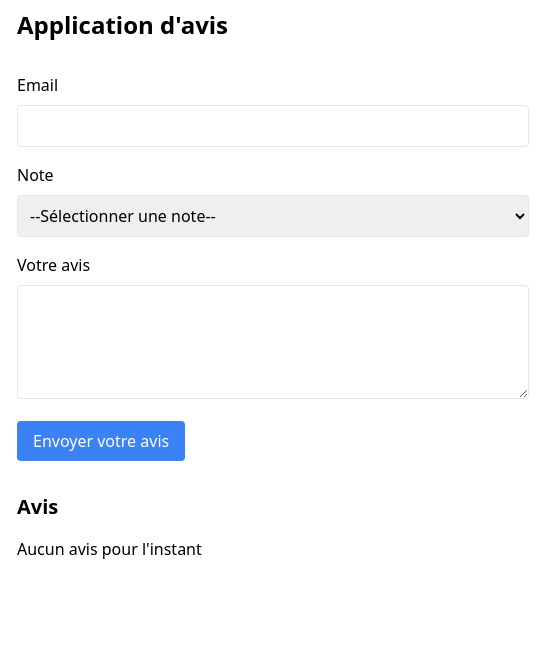
Test: Reviews App › should add a new review when form is submitted
This screenshot has width=546, height=668.
Type "test@example.com" into the field labelled "Email" at (273, 126), box top-left (17, 105), bottom-right (529, 147)
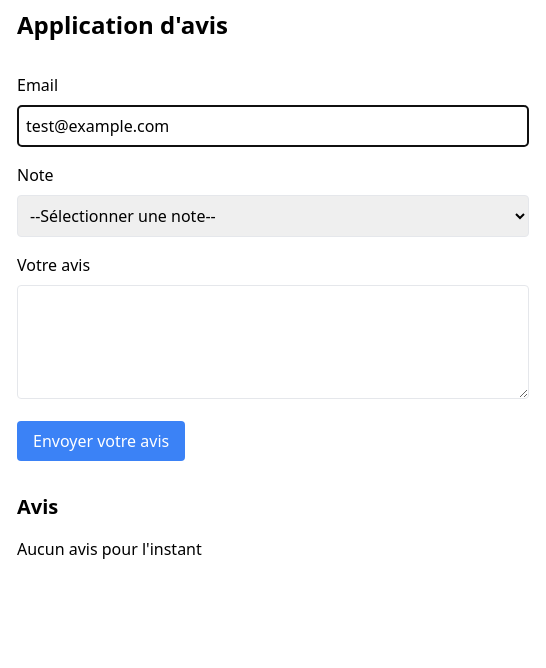
Select "5" in the dropdown labelled "Note" at (273, 216), box top-left (17, 195), bottom-right (529, 237)
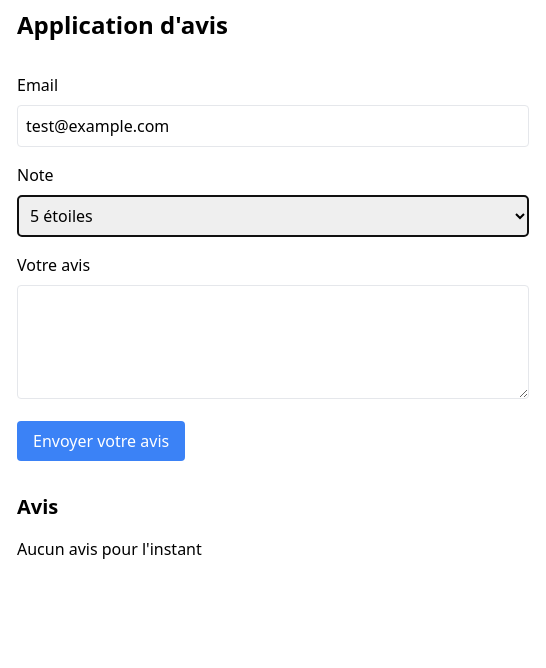
Type "Execellent produit !" into the text box labelled "Votre avis" at (273, 342), box top-left (17, 285), bottom-right (529, 399)
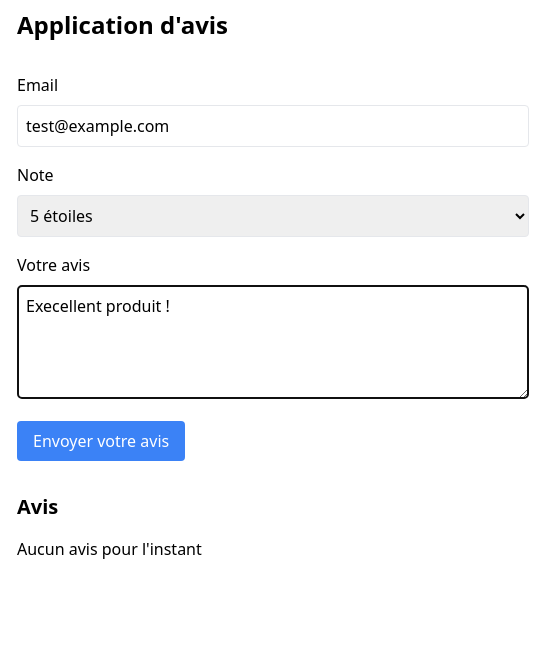
Click the button "Envoyer votre avis" at (101, 441), box top-left (17, 421), bottom-right (185, 461)
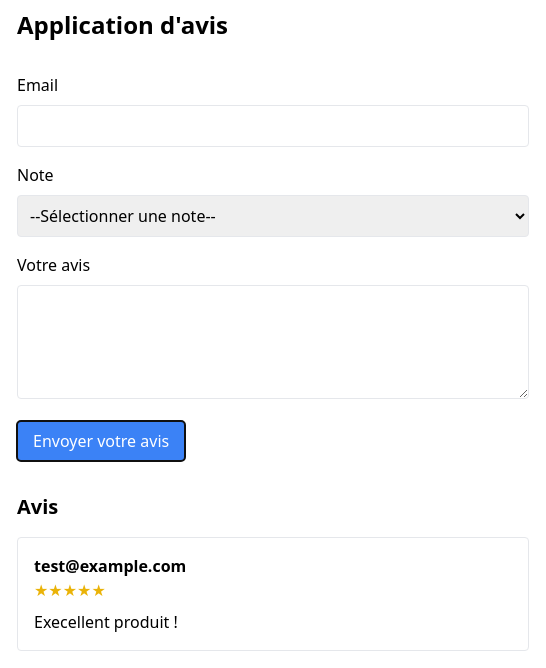
Now the text "test@example.com" is shown, box top-left (34, 555), bottom-right (186, 577)
Now the text "Execellent produit !" is shown, box top-left (34, 611), bottom-right (178, 633)
